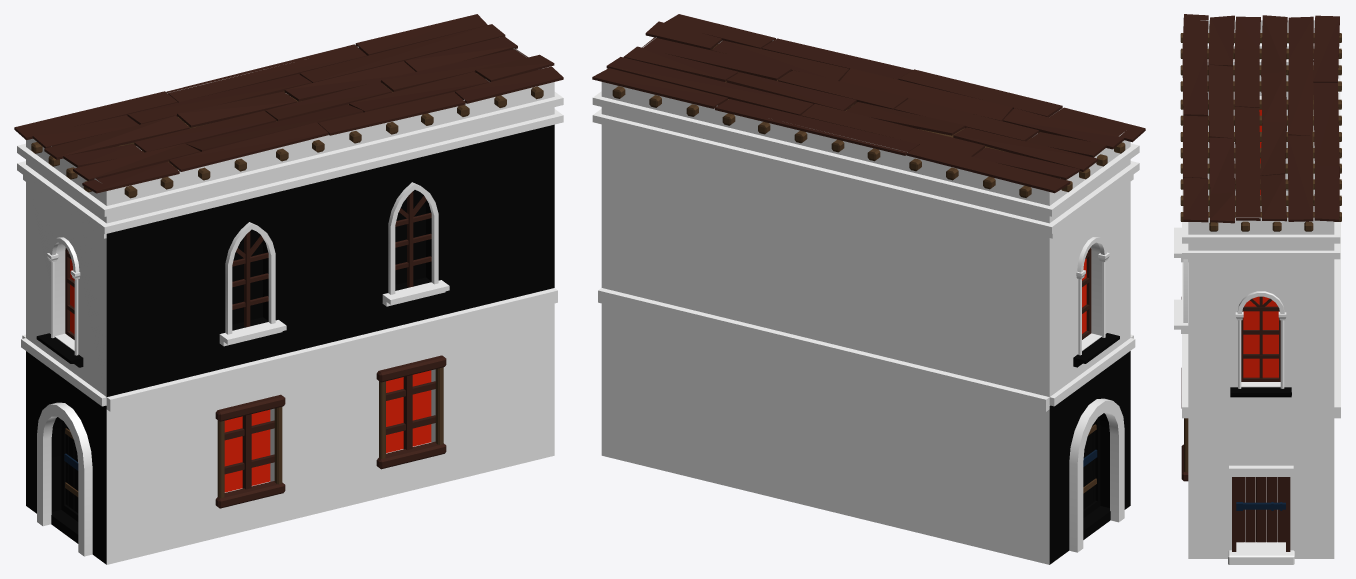
The model's file is civilian_house_36_b.FBX.
3 renders of one model, left to right at view 1: azimuth 30°, elevation 25°; view 2: azimuth 150°, elevation 25°; view 3: azimuth 270°, elevation 25°, orthographic. The views are drawn at different scales.
Parts seen in each view (by area): view 1: civilian_house_36_b; view 2: civilian_house_36_b; view 3: civilian_house_36_b.
Part boxes in pixels (x1,y1,x2,y2): civilian_house_36_b: [14, 14, 563, 564]; civilian_house_36_b: [592, 14, 1145, 564]; civilian_house_36_b: [1174, 14, 1341, 564].
Bounding box in the file's own units: 1060 × 814 × 360.
